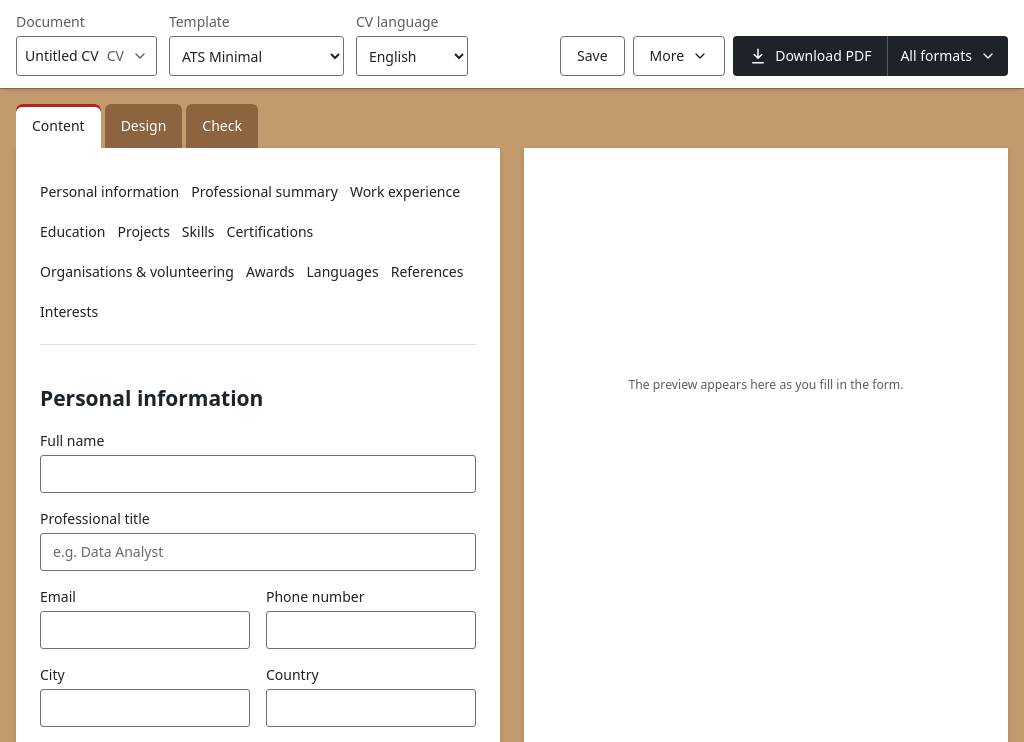
builder: editing and autosave › updates the live preview as the user types
In the field labelled "Full name": (258, 474) [40,455,476,493], type "Dewi Lestari"
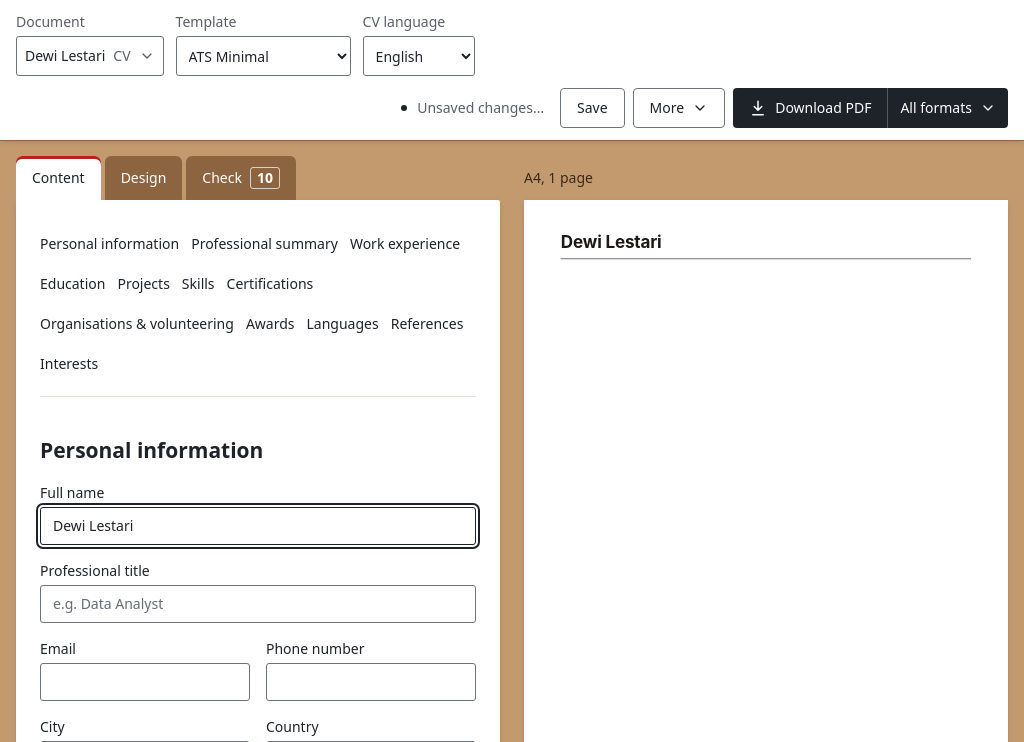
In the field labelled "Professional title": (258, 604) [40,585,476,623], type "UX Researcher"
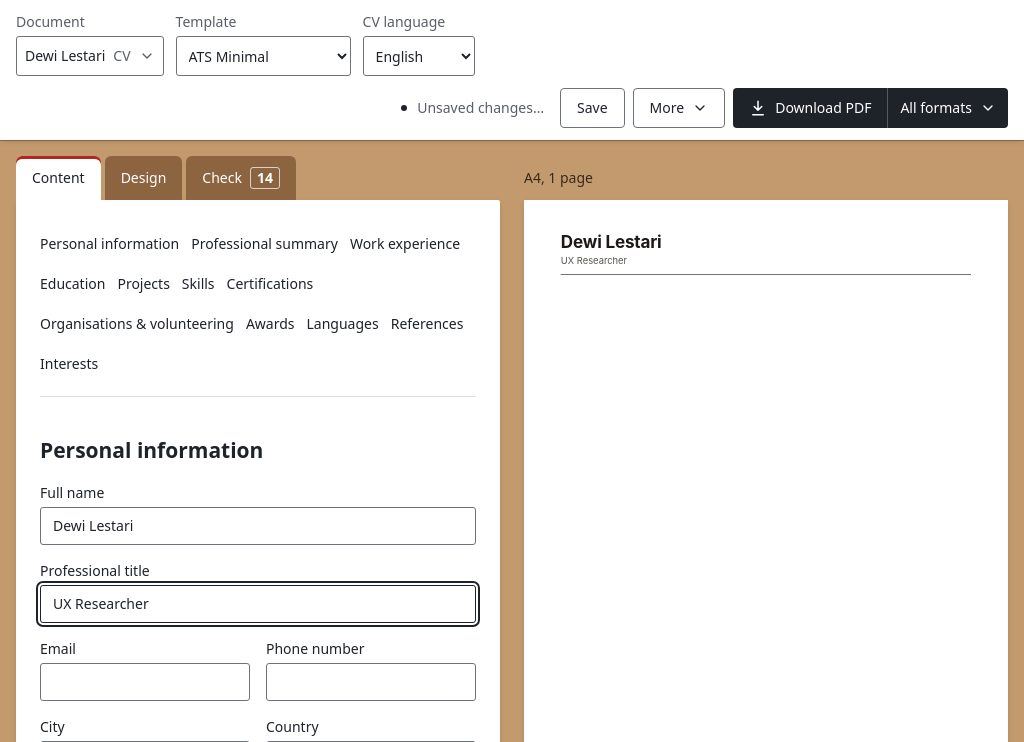
Now the heading "Dewi Lestari" is shown, box [561,232,662,252]
Now the text "UX Researcher" is shown, box [561,255,627,266]
